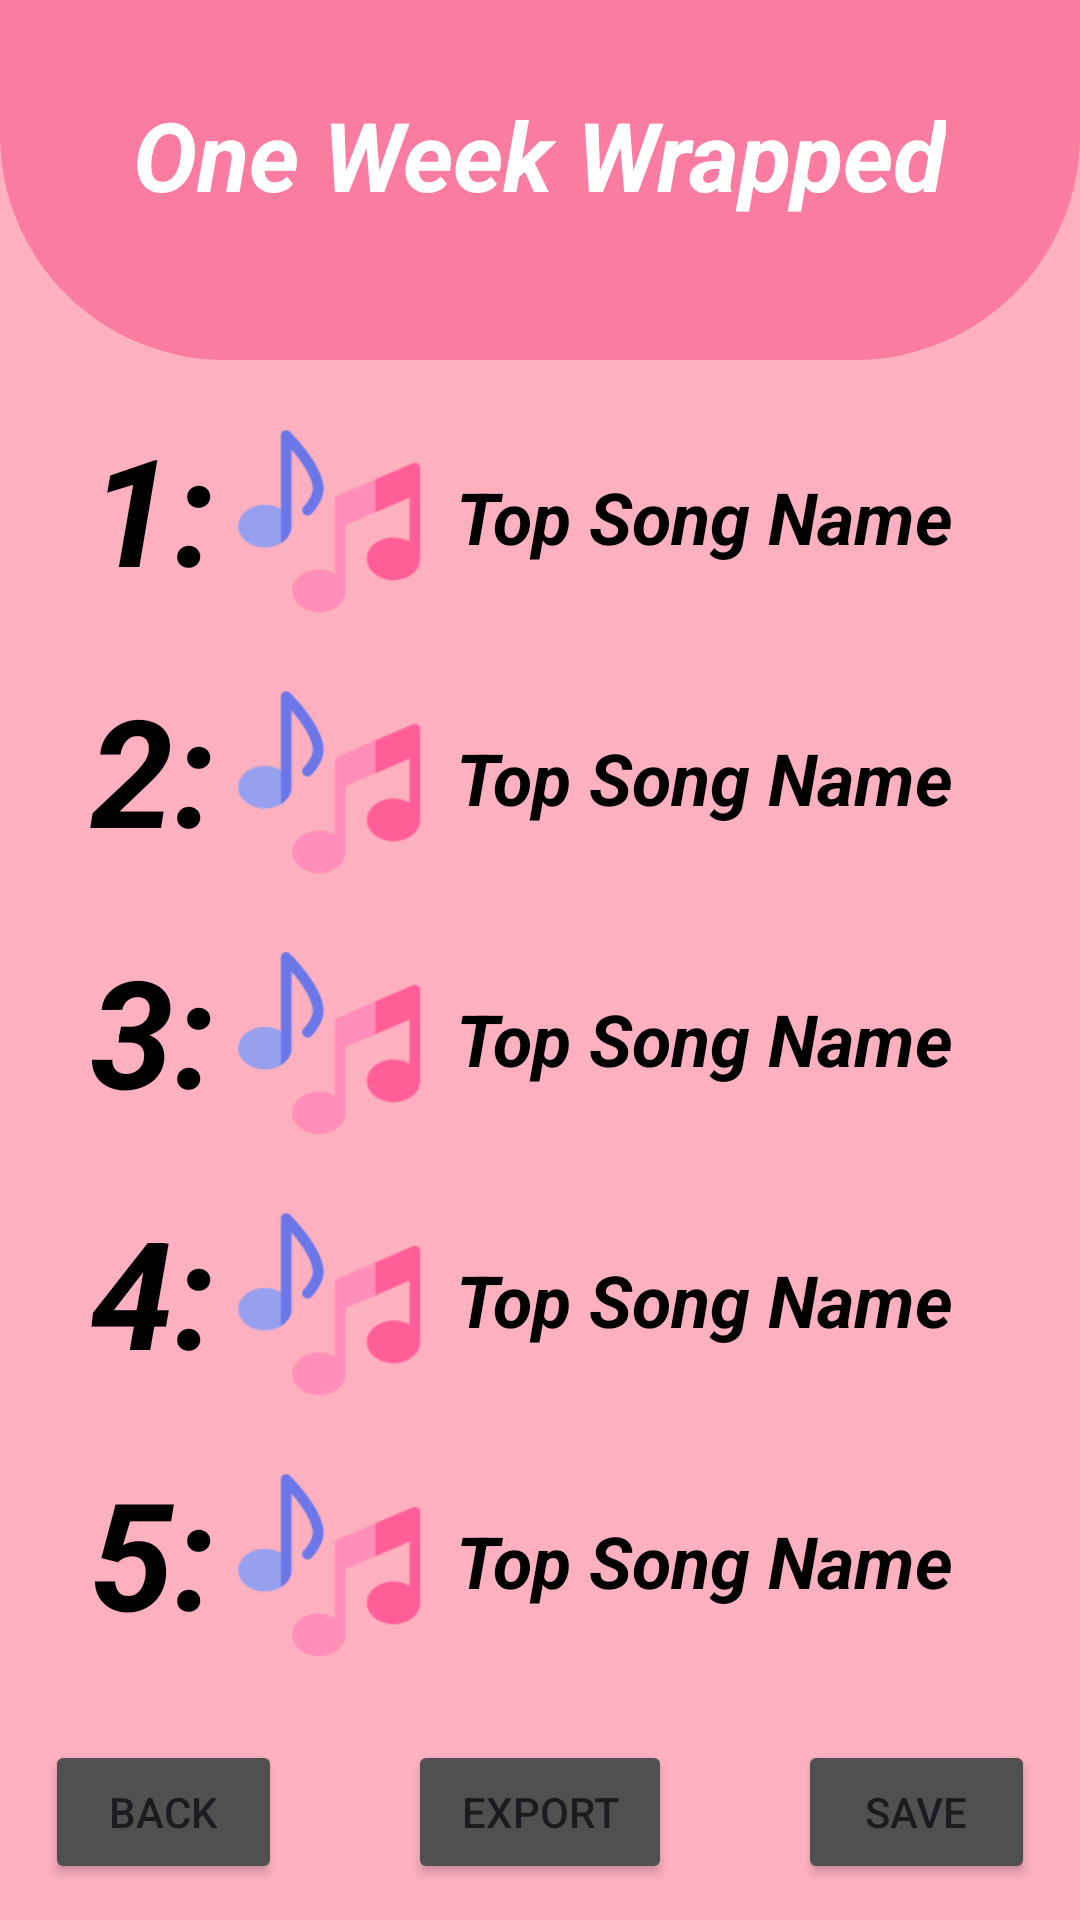

Icon click points for this 1080*1920 phone screenshot, format (x,y):
musicalnote: (329,521), (329,782), (329,1043), (329,1304), (329,1565)
